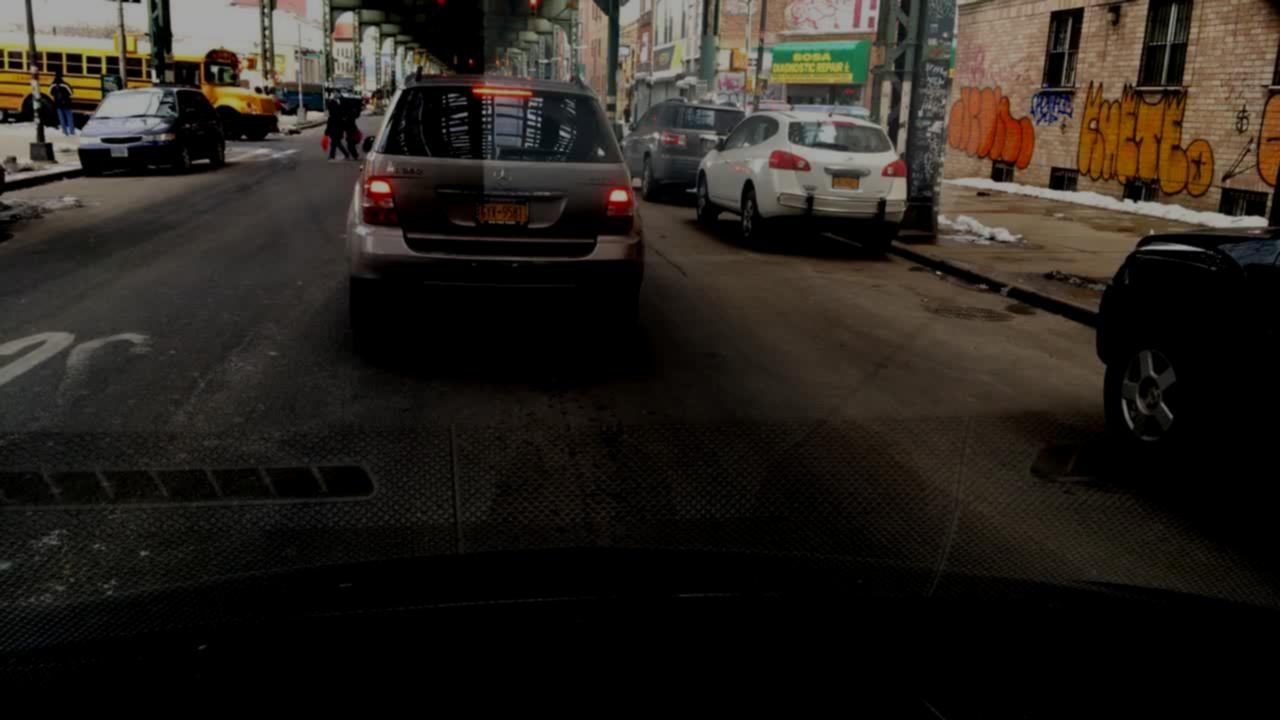Mercedes: (489, 162, 517, 196)
